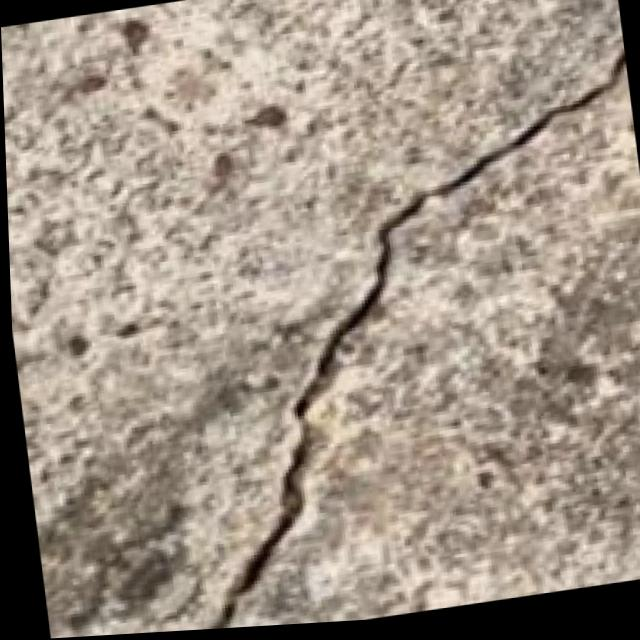Crack: (99, 7, 640, 635)
